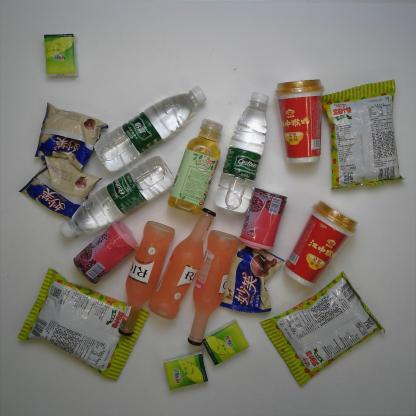Alcohol: (147, 207, 217, 320), (117, 221, 176, 336), (187, 229, 240, 346)
Canned Food: (72, 221, 139, 285), (239, 186, 288, 250)
Dessert: (18, 156, 102, 220), (34, 102, 108, 172), (218, 241, 286, 315)
Drink: (92, 86, 208, 172), (60, 155, 176, 240), (213, 92, 270, 213), (167, 119, 223, 214)
Instant Drink: (282, 199, 359, 288), (274, 78, 322, 164)
Puffed Food: (17, 268, 150, 380), (260, 270, 386, 387), (321, 79, 407, 190)
Tissue: (203, 318, 251, 364), (162, 349, 210, 391), (43, 33, 79, 78)
